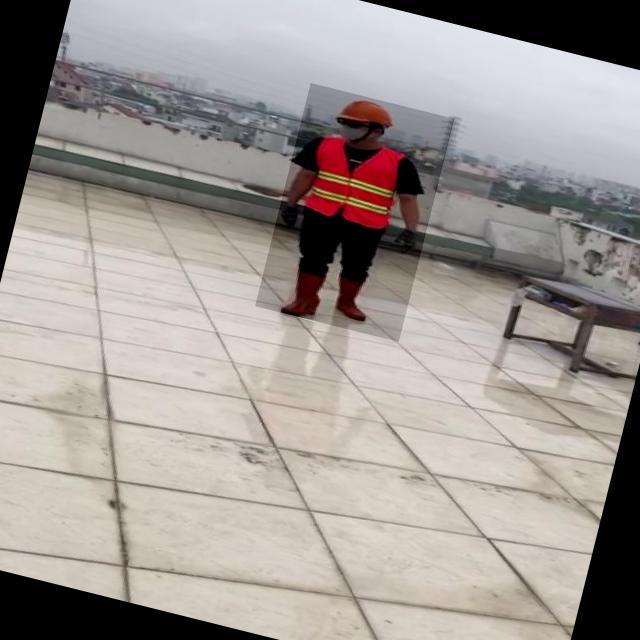Gloves: (391, 226, 418, 254), (278, 202, 303, 229)
Helmet: (334, 92, 399, 132)
Human: (255, 83, 454, 342)
Safety Boot: (282, 269, 326, 322), (333, 277, 375, 322)
Safety Vest: (301, 132, 404, 229)
